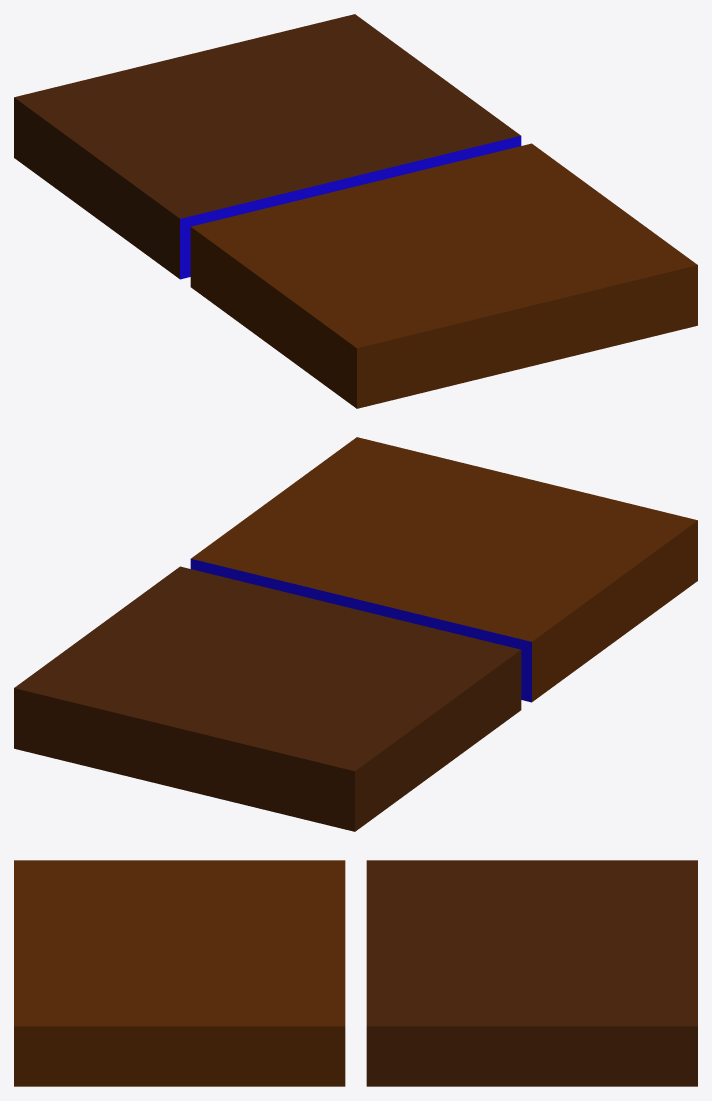
The model's file is kes1.fbx.
The picture shows the model from 3 angles, top to bottom: view 1: azimuth 30°, elevation 25°; view 2: azimuth 150°, elevation 25°; view 3: azimuth 270°, elevation 25°; orthographic projection.
Parts seen in each view (by area): view 1: Cube.005, Cube.006; view 2: Cube.006, Cube.005; view 3: Cube.005, Cube.006.
Part boxes in pixels (x1,y1,x2,y2): Cube.005: (190,143,697,408); Cube.006: (14,14,521,279); Cube.006: (14,566,521,831); Cube.005: (190,437,697,702); Cube.005: (14,860,345,1086); Cube.006: (366,860,697,1086).
Bounding box in the file's own units: 200 × 33.96 × 348.
